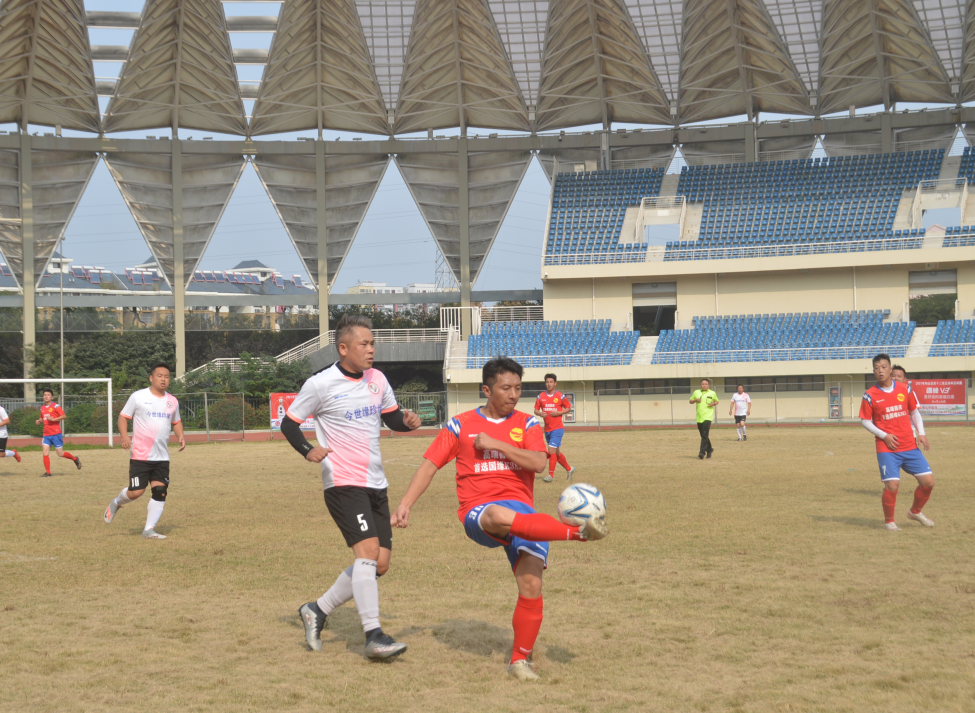football: (557, 483, 607, 527)
